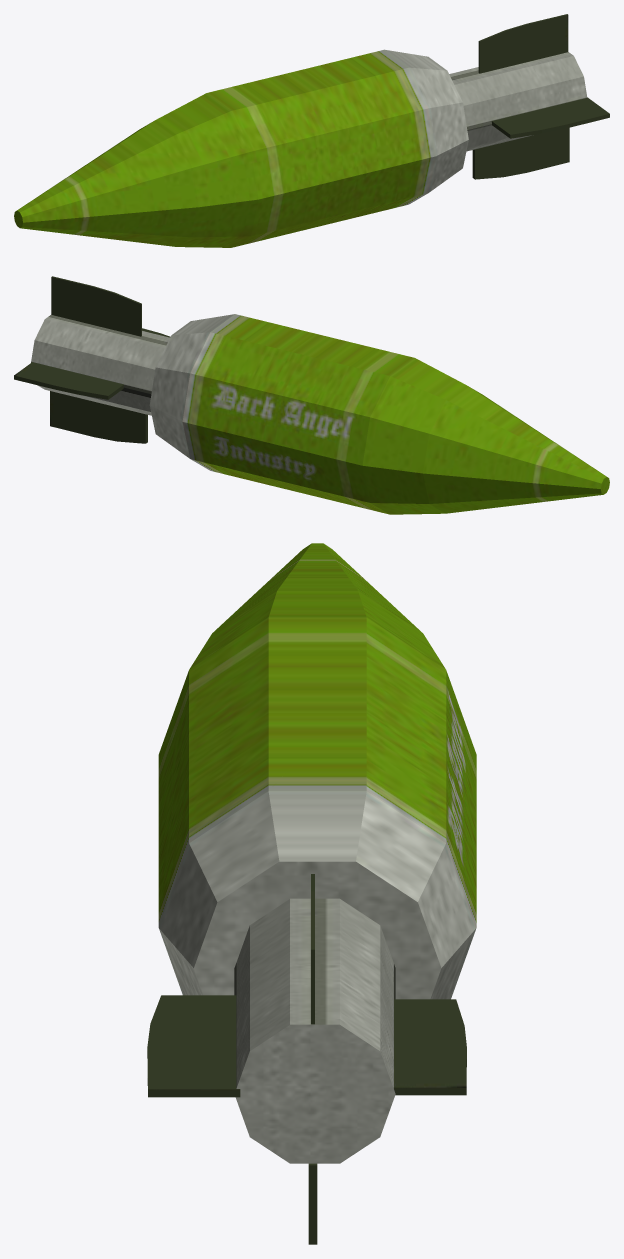
3 views of the same model, one above another, from view 1: azimuth 30°, elevation 25°; view 2: azimuth 150°, elevation 25°; view 3: azimuth 270°, elevation 25° (orthographic). The views are drawn at different scales.
Parts seen in each view (by area): view 1: HEshell; view 2: HEshell; view 3: HEshell.
Boxes of the visible parts, box(x1,y1,x2,y2) form: HEshell: box(14, 14, 609, 247); HEshell: box(14, 276, 609, 514); HEshell: box(147, 543, 476, 1244).
Bounding box in the file's own units: 0.4502 × 0.1157 × 0.1169.
Materials: 1 (1 with a texture image).
